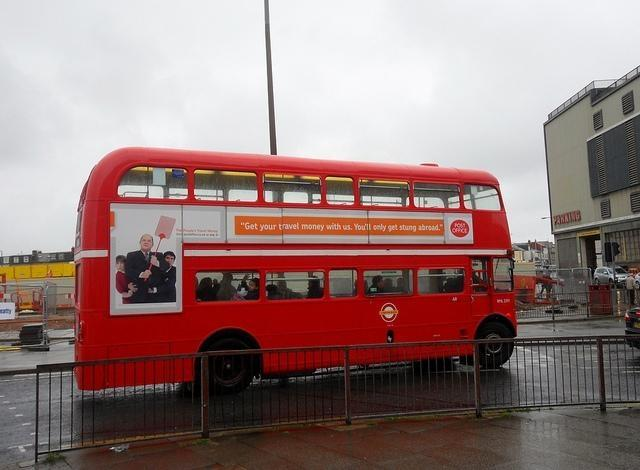bus: (74, 146, 523, 394)
car: (624, 306, 640, 350), (594, 266, 630, 284), (635, 270, 640, 290)
